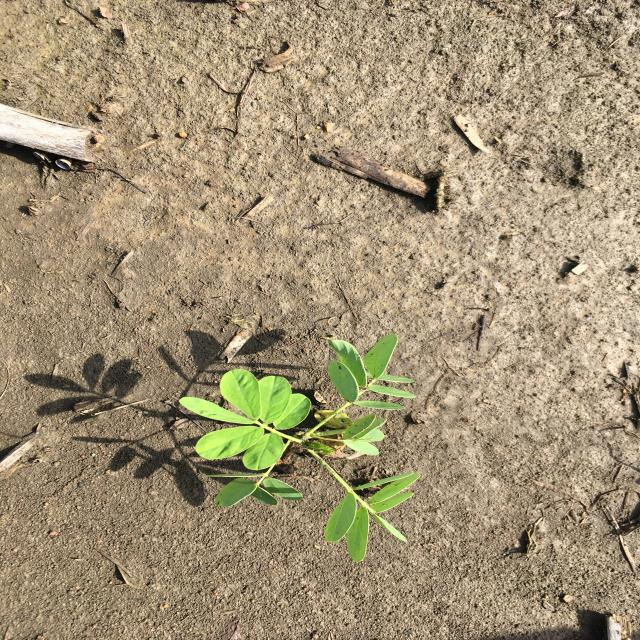Sicklepod: (176, 331, 424, 566)
